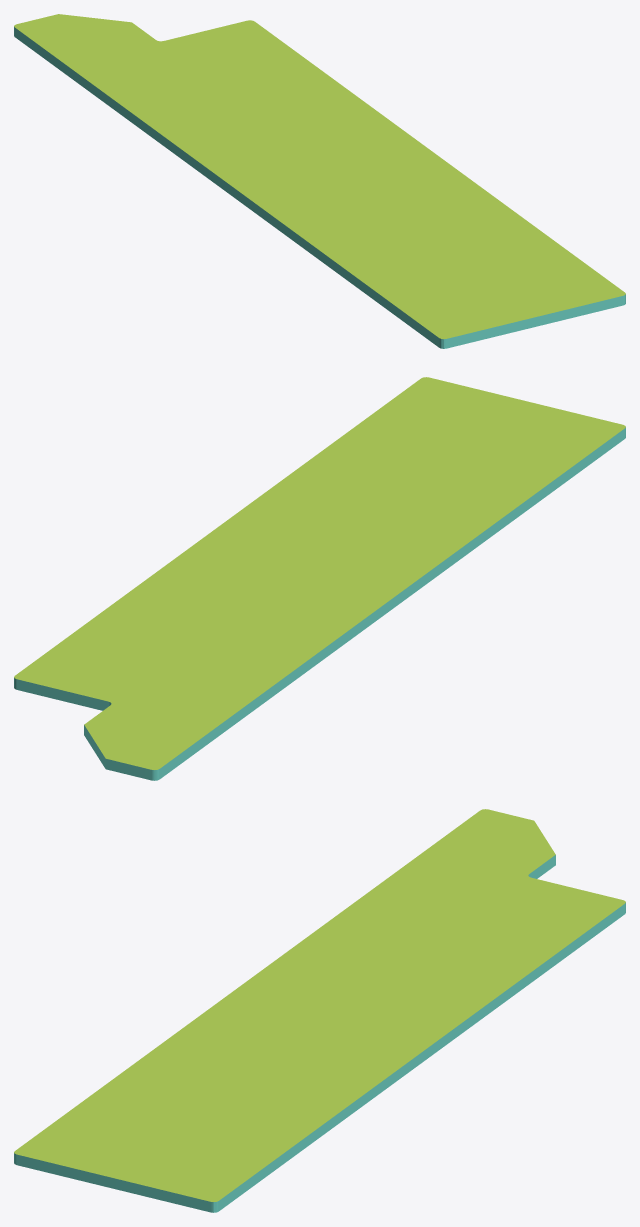
The model's file is MotherBoard_Large.fbx.
3 renders of one model, top to bottom at view 1: azimuth 30°, elevation 25°; view 2: azimuth 150°, elevation 25°; view 3: azimuth 330°, elevation 25°, orthographic. The views are drawn at different scales.
Parts seen in each view (by area): view 1: MotherBoard_Large; view 2: MotherBoard_Large; view 3: MotherBoard_Large.
Boxes of the visible parts, bbox=[...] form: MotherBoard_Large: bbox=[14, 14, 625, 348]; MotherBoard_Large: bbox=[14, 377, 625, 780]; MotherBoard_Large: bbox=[14, 809, 625, 1212].
Size of the model in its own units: 20 by 1 by 80.04.
